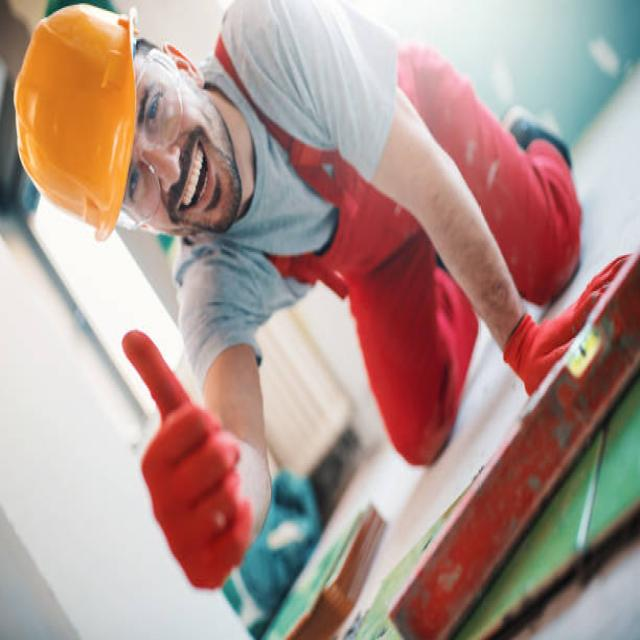gloves: (118, 327, 256, 593), (502, 252, 631, 401)
